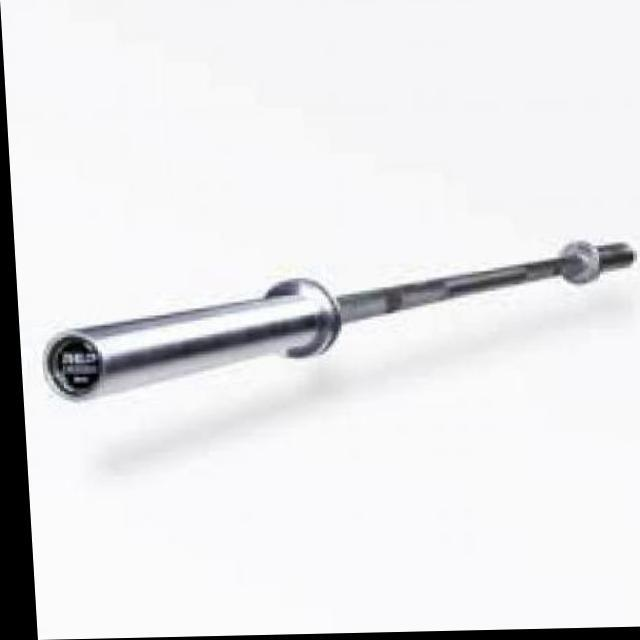barbell: (24, 259, 344, 415)
